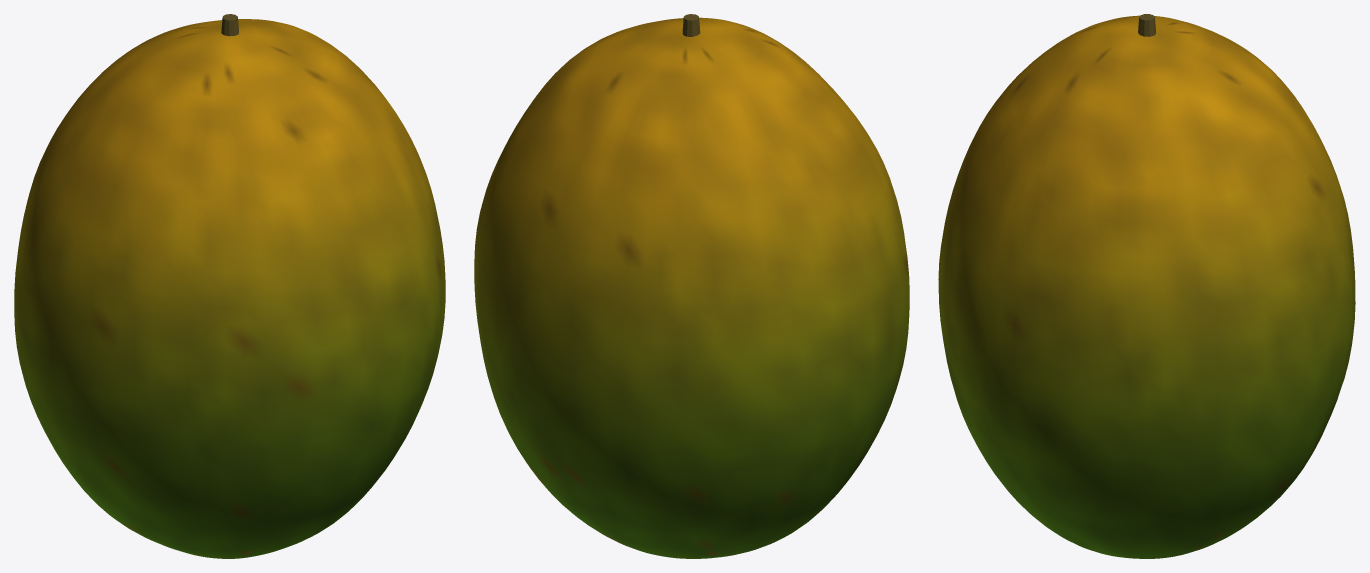
Rendered from evi.glb.
3 renders of one model, left to right at view 1: azimuth 30°, elevation 25°; view 2: azimuth 150°, elevation 25°; view 3: azimuth 270°, elevation 25°, orthographic.
Parts seen in each view (by area): view 1: entier_peau, moitie_B_peau, moitie_A_peau; view 2: entier_peau, moitie_A_peau, moitie_B_peau; view 3: entier_peau, moitie_A_peau, moitie_B_peau.
Boxes of the visible parts, x1=… form: entier_peau: x1=14, y1=19, x2=445, y2=558; moitie_B_peau: x1=40, y1=29, x2=445, y2=558; moitie_A_peau: x1=17, y1=19, x2=326, y2=505; entier_peau: x1=474, y1=17, x2=909, y2=558; moitie_A_peau: x1=474, y1=29, x2=882, y2=558; moitie_B_peau: x1=641, y1=17, x2=909, y2=509; entier_peau: x1=938, y1=15, x2=1355, y2=558; moitie_A_peau: x1=1147, y1=18, x2=1355, y2=557; moitie_B_peau: x1=939, y1=16, x2=1146, y2=558.
Size of the model in its own units: 1.56 by 2.06 by 1.48.
